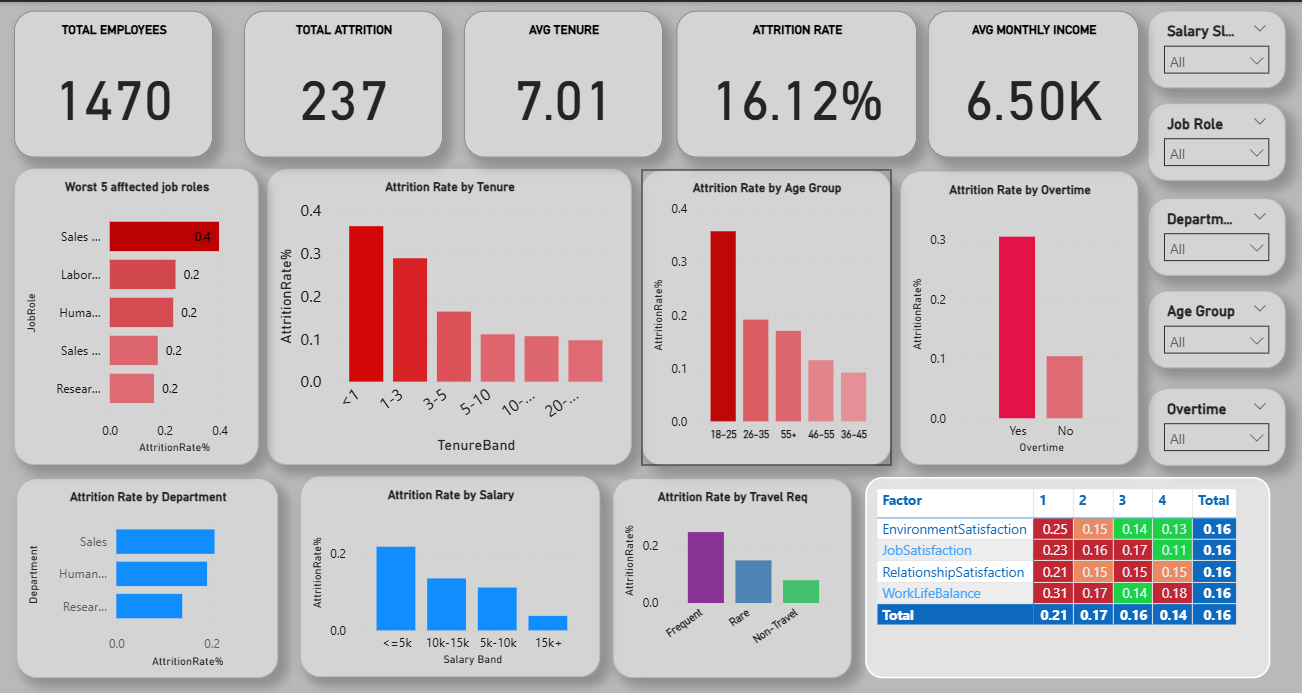

The dashboard page shown, as its layout file describes it:
{"tool":"powerbi","page":{"name":"Page 1","canvas":[1280,720],"ordinal":0},"visuals":[{"type":"card","title":"TOTAL EMPLOYEES","fields":{"Values":["HR_Analytics.TotalEmployees"]},"box":[15,8.8,195,143.8],"z":0},{"type":"clusteredColumnChart","title":"Attrition Rate by Tenure","fields":{"Category":["HR_Analytics.TenureBand"],"Y":["HR_Analytics.AttritionRate%"]},"box":[263,163.8,358.8,291.2],"z":1000},{"type":"clusteredColumnChart","title":"Attrition Rate by Salary ","fields":{"Category":["HR_Analytics.SalarySlabGroup"],"Y":["HR_Analytics.AttritionRate%"]},"box":[295.7,465,294.5,197.5],"z":2000},{"type":"clusteredColumnChart","title":"Attrition Rate by Travel Req","fields":{"Category":["HR_Analytics.BusinessTravel"],"Y":["HR_Analytics.AttritionRate%"]},"box":[603,467.5,234,196.2],"z":3000},{"type":"clusteredColumnChart","title":"Attrition Rate by Age Group","fields":{"Y":["HR_Analytics.AttritionRate%"],"Category":["HR_Analytics.AgeGroup"]},"box":[631,165,245,290],"z":4000},{"type":"donutChart","title":"Attrition Rate by Department","fields":{"Category":["HR_Analytics.Department"],"Y":["HR_Analytics.AttritionRate%"]},"box":[17.5,467.5,257,196.2],"z":5000},{"type":"slicer","title":"Attrition Rate by Salary ","fields":{"Values":["HR_Analytics.SalarySlabGroup"]},"box":[1127.6,8.6,135,76.1],"z":6000},{"type":"slicer","title":"Attrition Rate by Salary ","fields":{"Values":["HR_Analytics.JobRole"]},"box":[1127.6,99.4,135,76.1],"z":7000},{"type":"slicer","title":"Attrition Rate by Salary ","fields":{"Values":["HR_Analytics.Department"]},"box":[1127.6,192.6,135,76.1],"z":8000},{"type":"slicer","title":"Attrition Rate by Salary ","fields":{"Values":["HR_Analytics.AgeGroup"]},"box":[1127.6,283.4,135,76.1],"z":9000},{"type":"slicer","title":"Attrition Rate by Salary ","fields":{"Values":["HR_Analytics.OverTime"]},"box":[1127.6,379.1,135,76.1],"z":10000},{"type":"donutChart","title":"Attrition Rate by Overtime","fields":{"Category":["HR_Analytics.OverTime"],"Y":["HR_Analytics.AttritionRate%"]},"box":[885,166.2,233.8,288.8],"z":11000},{"type":"pivotTable","title":"Avg Tenure","fields":{"Rows":["HR_Analytics.Factor"],"Columns":["HR_Analytics.Satisfaction Score"],"Values":["HR_Analytics.AttritionRate%"]},"box":[850.3,466.3,344.8,197.5],"z":12000},{"type":"clusteredBarChart","title":"Worst 5 afftected job roles","fields":{"Category":["HR_Analytics.JobRole"],"Y":["HR_Analytics.AttritionRate%"]},"box":[15,163.8,240,291.2],"z":13000},{"type":"card","title":"TOTAL ATTRITION","fields":{"Values":["HR_Analytics.Total Attrition No"]},"box":[240,8.8,195,143.8],"z":14000},{"type":"card","title":"AVG TENURE","fields":{"Values":["HR_Analytics.AvgTenureYears"]},"box":[456.2,8.8,195,143.8],"z":15000},{"type":"card","title":"ATTRITION RATE","fields":{"Values":["HR_Analytics.Attrition Rate"]},"box":[665,8.8,236.2,143.8],"z":16000},{"type":"card","title":"AVG MONTHLY INCOME","fields":{"Values":["HR_Analytics.AvgMonthlyIncome"]},"box":[911.2,8.8,207.5,143.8],"z":17000}]}

Visuals, with their boxes on the page's 1280x720 design canvas (x1, y1, x2, y2). These are canvas units, not pixel positions in the 1302x693 screenshot, which may show the page scaled, cropped or inside an application window:
"TOTAL EMPLOYEES" card: region(15, 9, 210, 153)
"Attrition Rate by Tenure" clusteredColumnChart: region(263, 164, 622, 455)
"Attrition Rate by Salary " clusteredColumnChart: region(296, 465, 590, 662)
"Attrition Rate by Travel Req" clusteredColumnChart: region(603, 468, 837, 664)
"Attrition Rate by Age Group" clusteredColumnChart: region(631, 165, 876, 455)
"Attrition Rate by Department" donutChart: region(18, 468, 274, 664)
"Attrition Rate by Salary " slicer: region(1128, 9, 1263, 85)
"Attrition Rate by Salary " slicer: region(1128, 99, 1263, 176)
"Attrition Rate by Salary " slicer: region(1128, 193, 1263, 269)
"Attrition Rate by Salary " slicer: region(1128, 283, 1263, 360)
"Attrition Rate by Salary " slicer: region(1128, 379, 1263, 455)
"Attrition Rate by Overtime" donutChart: region(885, 166, 1119, 455)
"Avg Tenure" pivotTable: region(850, 466, 1195, 664)
"Worst 5 afftected job roles" clusteredBarChart: region(15, 164, 255, 455)
"TOTAL ATTRITION" card: region(240, 9, 435, 153)
"AVG TENURE" card: region(456, 9, 651, 153)
"ATTRITION RATE" card: region(665, 9, 901, 153)
"AVG MONTHLY INCOME" card: region(911, 9, 1119, 153)
